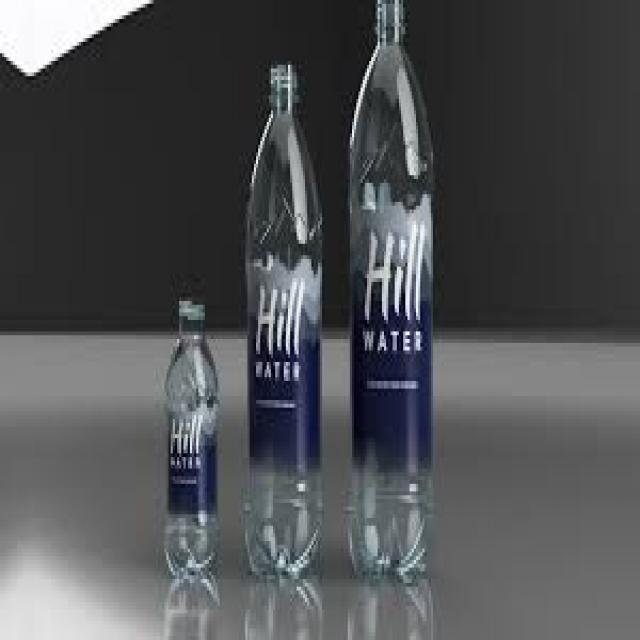Plastic: (349, 1, 433, 584), (245, 64, 325, 586), (162, 298, 217, 582)
